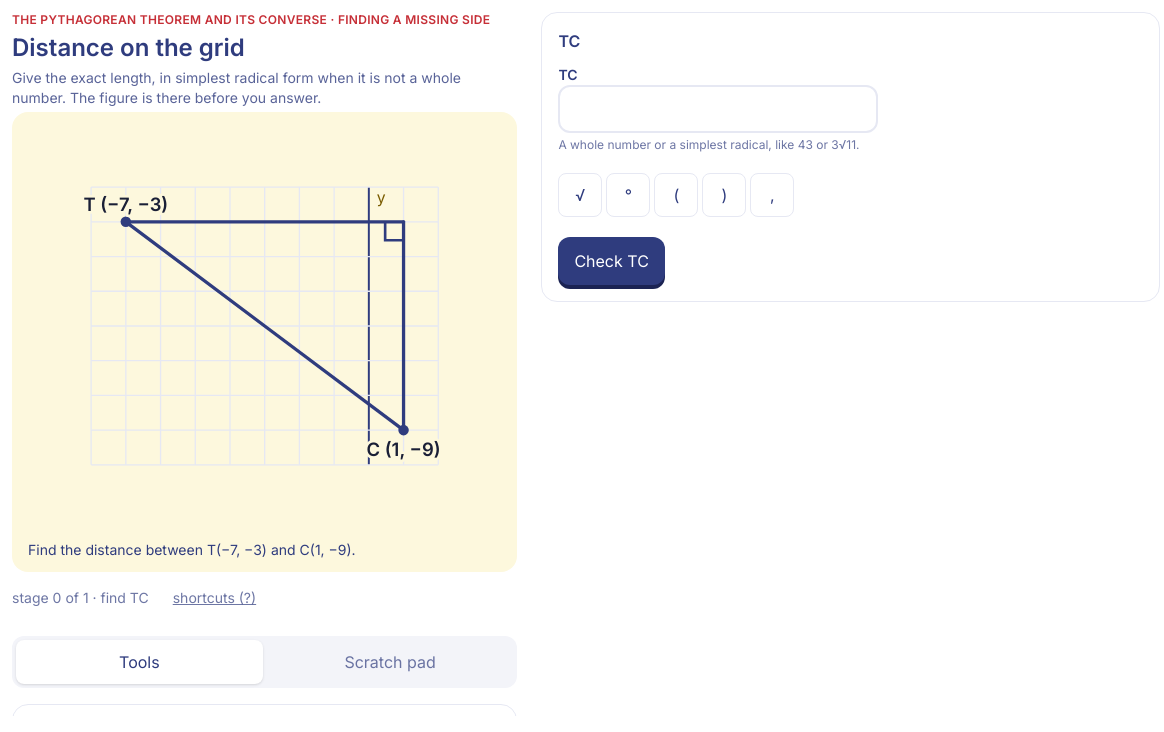
Test case: GeometryFlow unit 7 geoPythagorean/py.side › an unreadable answer records nothing
Step 1. Click the button "Check TC" → (612, 261), box [558,237,665,285]
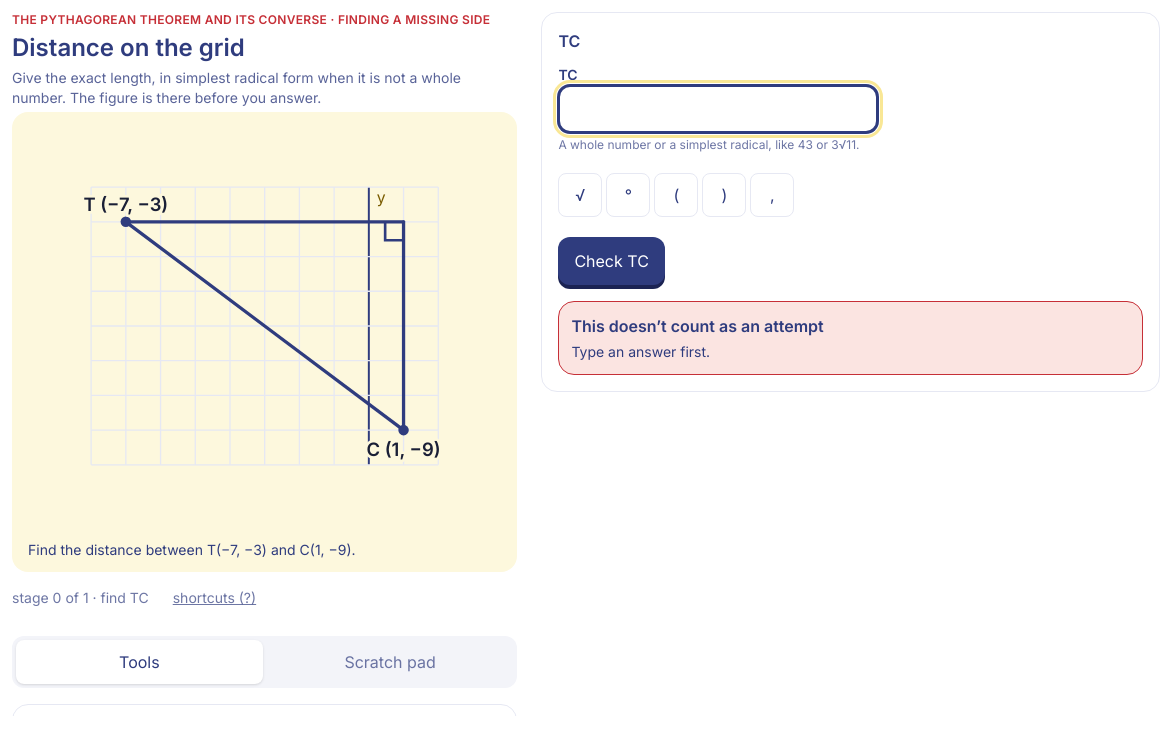
Result: the message shows "This doesn’t count as an attempt" at [571,316,824,336]
Step 2. Type "???" into the field labelled "TC" → (718, 109), box [558,85,878,133]
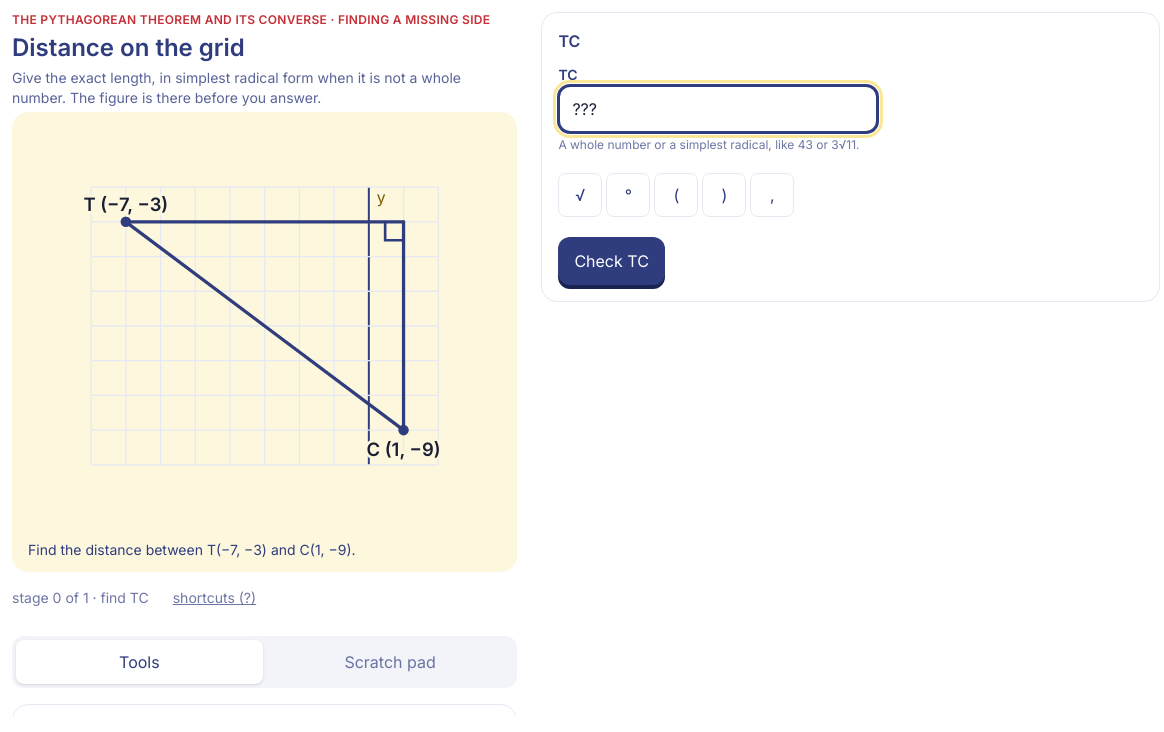
Result: the message "This doesn’t count as an attempt Type an answer first." is gone
Step 3. Click the button "Check TC" → (612, 261), box [558,237,665,285]
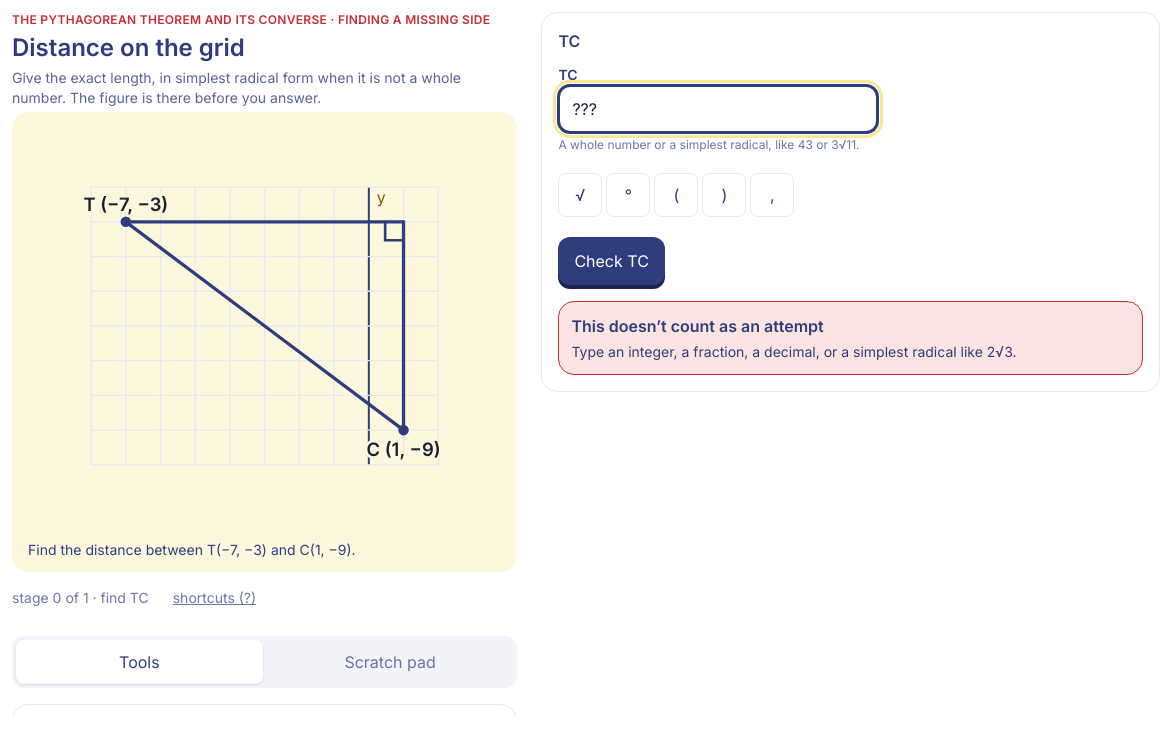
Result: the message shows "This doesn’t count as an attempt" at [571,316,824,336]
